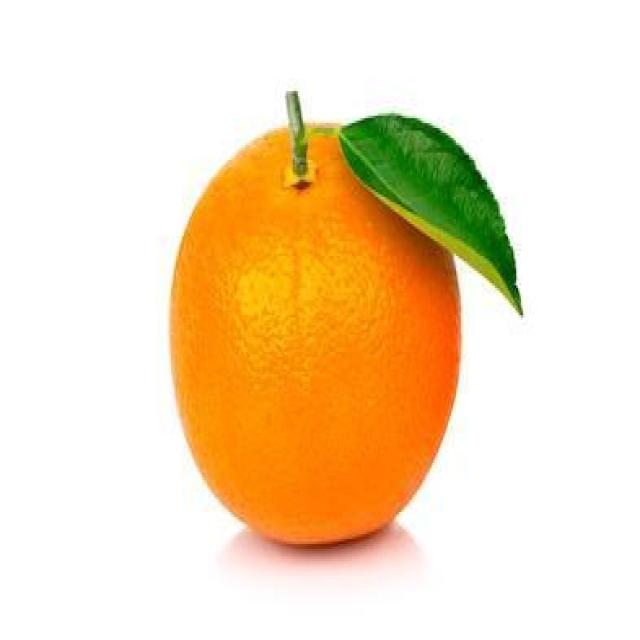orange: (168, 125, 468, 545)
